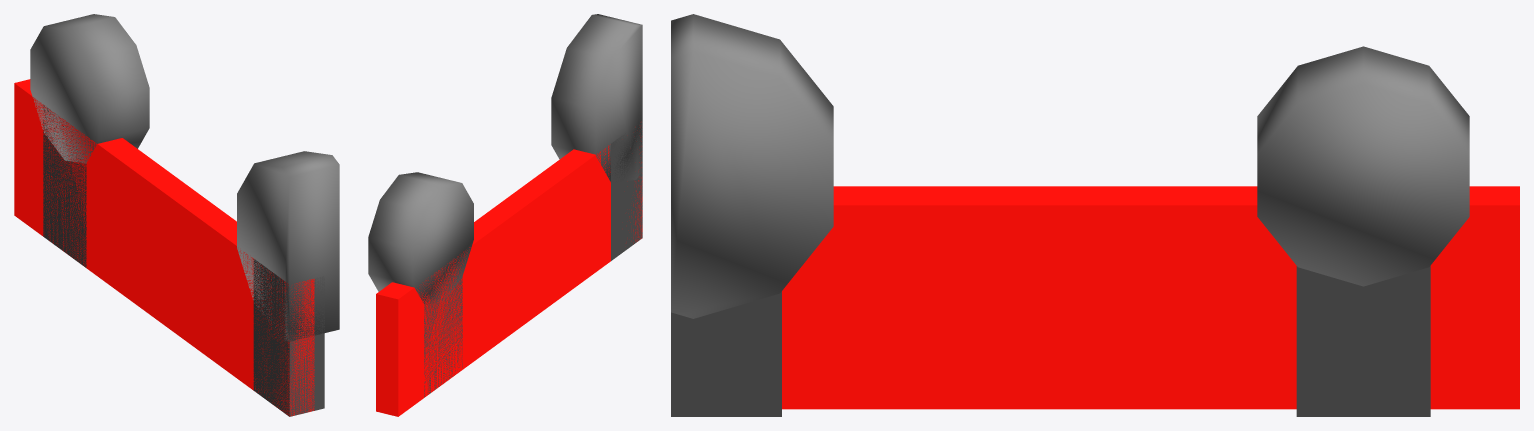
Rendered from newsha-231-f4.glb.
3 views of the same model, side by side, from view 1: azimuth 30°, elevation 25°; view 2: azimuth 150°, elevation 25°; view 3: azimuth 270°, elevation 25° (orthographic). The views are drawn at different scales.
Visible parts, largest first — view 1: newsha-231-f4; view 2: newsha-231-f4; view 3: newsha-231-f4.
Part boxes in pixels (bbox=[...]): newsha-231-f4: bbox=[14, 14, 339, 416]; newsha-231-f4: bbox=[368, 14, 642, 416]; newsha-231-f4: bbox=[671, 14, 1519, 416].
Size of the model in its own units: 0.1667 by 0.775 by 1.58.
